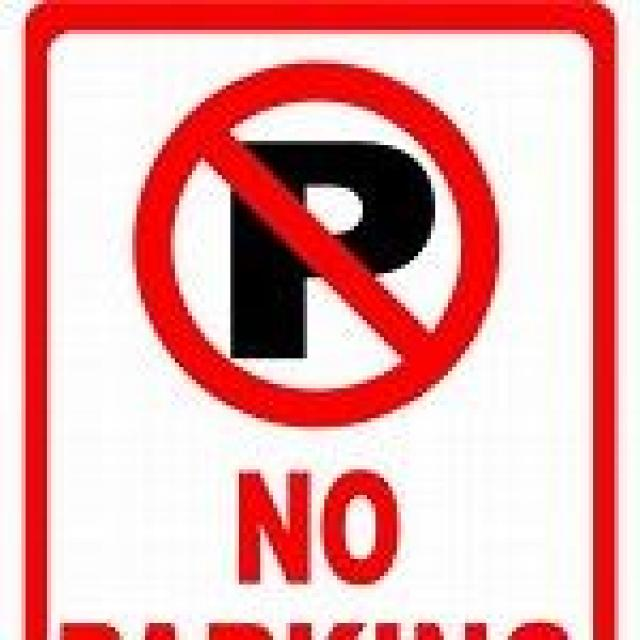NO_PARKING: (130, 60, 500, 427)
